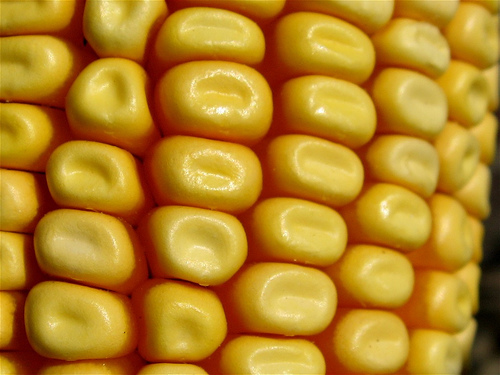corn: (1, 0, 499, 373)
